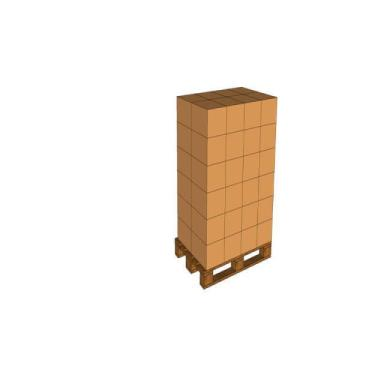pallet: (175, 237, 271, 290), (213, 262, 232, 275), (244, 249, 259, 261)
